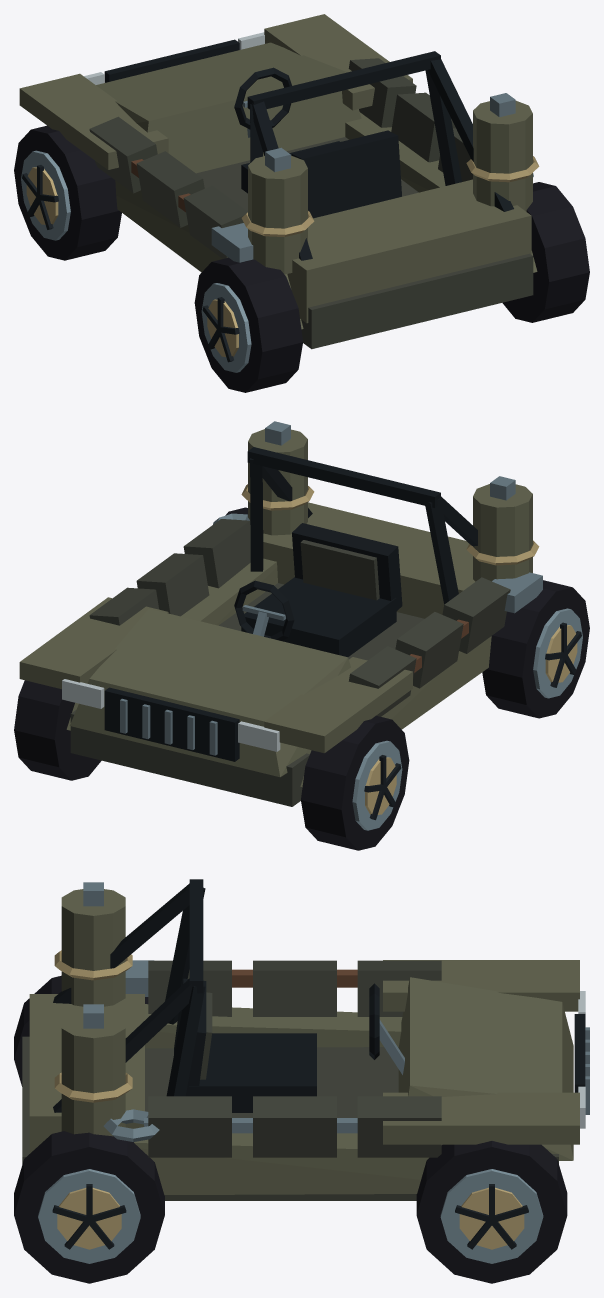
File: kart.glb
3 renders of one model, top to bottom at view 1: azimuth 30°, elevation 25°; view 2: azimuth 150°, elevation 25°; view 3: azimuth 270°, elevation 25°, orthographic. The views are drawn at different scales.
Parts seen in each view (by area): view 1: identity-jeep-jeep-offroad-frame, identity-jeep-motif-tanks, identity-jeep-motif-armor, wheel-rear-left, wheel-front-left, identity-jeep-driver-cockpit, wheel-rear-right, identity-jeep-motif-tools; view 2: identity-jeep-jeep-offroad-frame, identity-jeep-motif-armor, identity-jeep-driver-cockpit, wheel-front-left, wheel-rear-left, identity-jeep-motif-tanks, wheel-front-right, identity-jeep-motif-tools; view 3: identity-jeep-jeep-offroad-frame, identity-jeep-motif-armor, wheel-rear-right, wheel-front-right, identity-jeep-motif-tanks, identity-jeep-driver-cockpit, identity-jeep-motif-tools, wheel-rear-left.
Part boxes in pixels (x1,y1,x2,y2): identity-jeep-jeep-offroad-frame: (19, 14, 537, 349); identity-jeep-motif-tanks: (241, 93, 539, 274); identity-jeep-motif-armor: (89, 58, 472, 258); wheel-rear-left: (194, 257, 302, 392); wheel-front-left: (14, 125, 121, 260); identity-jeep-driver-cockpit: (234, 67, 401, 218); wheel-rear-right: (502, 182, 589, 322); identity-jeep-motif-tools: (131, 159, 533, 262); identity-jeep-jeep-offroad-frame: (19, 447, 491, 806); identity-jeep-motif-armor: (89, 519, 510, 716); identity-jeep-driver-cockpit: (234, 523, 402, 657); wheel-front-left: (301, 715, 409, 850); wheel-rear-left: (482, 580, 589, 718); identity-jeep-motif-tanks: (241, 421, 539, 581); wheel-front-right: (14, 680, 101, 780); identity-jeep-motif-tools: (213, 513, 542, 672); identity-jeep-jeep-offroad-frame: (22, 879, 589, 1200); identity-jeep-motif-armor: (148, 960, 441, 1157); wheel-rear-right: (14, 1131, 164, 1283); wheel-front-right: (416, 1141, 567, 1283); identity-jeep-motif-tanks: (54, 882, 132, 1136); identity-jeep-driver-cockpit: (174, 978, 404, 1112); identity-jeep-motif-tools: (103, 960, 357, 1141); wheel-rear-left: (14, 975, 148, 1086).
Bounding box in the file's own units: 2.13 × 1.39 × 2.75.
